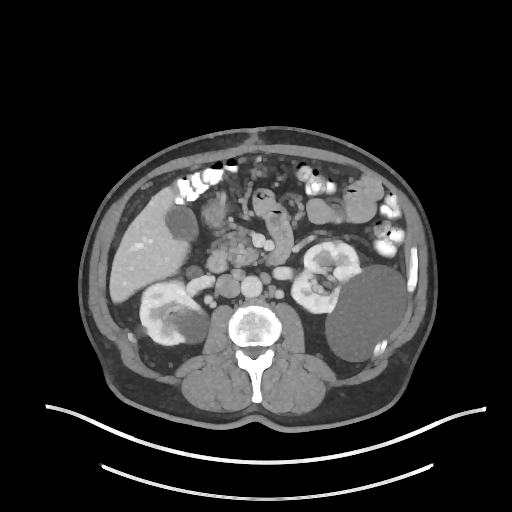Lesion: (329, 236, 347, 249)
